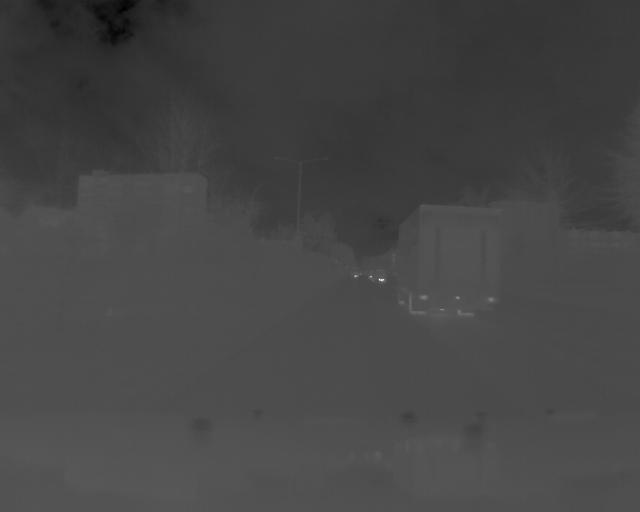car: (390, 203, 506, 321)
